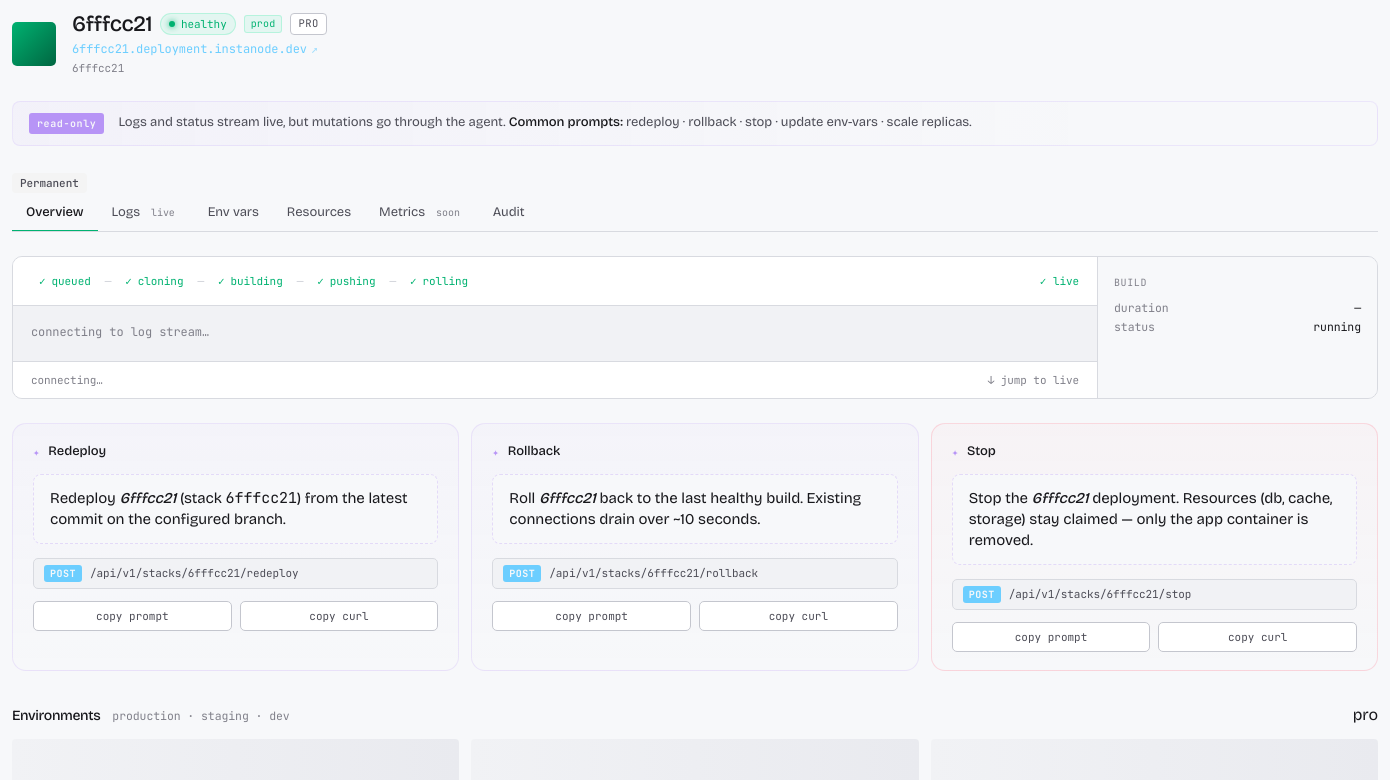
Test: DeployDetailPage — env_vars panel parses + renders real rows › renders the empty-state hint when env_vars is empty
Click the button "Env vars" at (233, 213), box [194, 194, 273, 232]
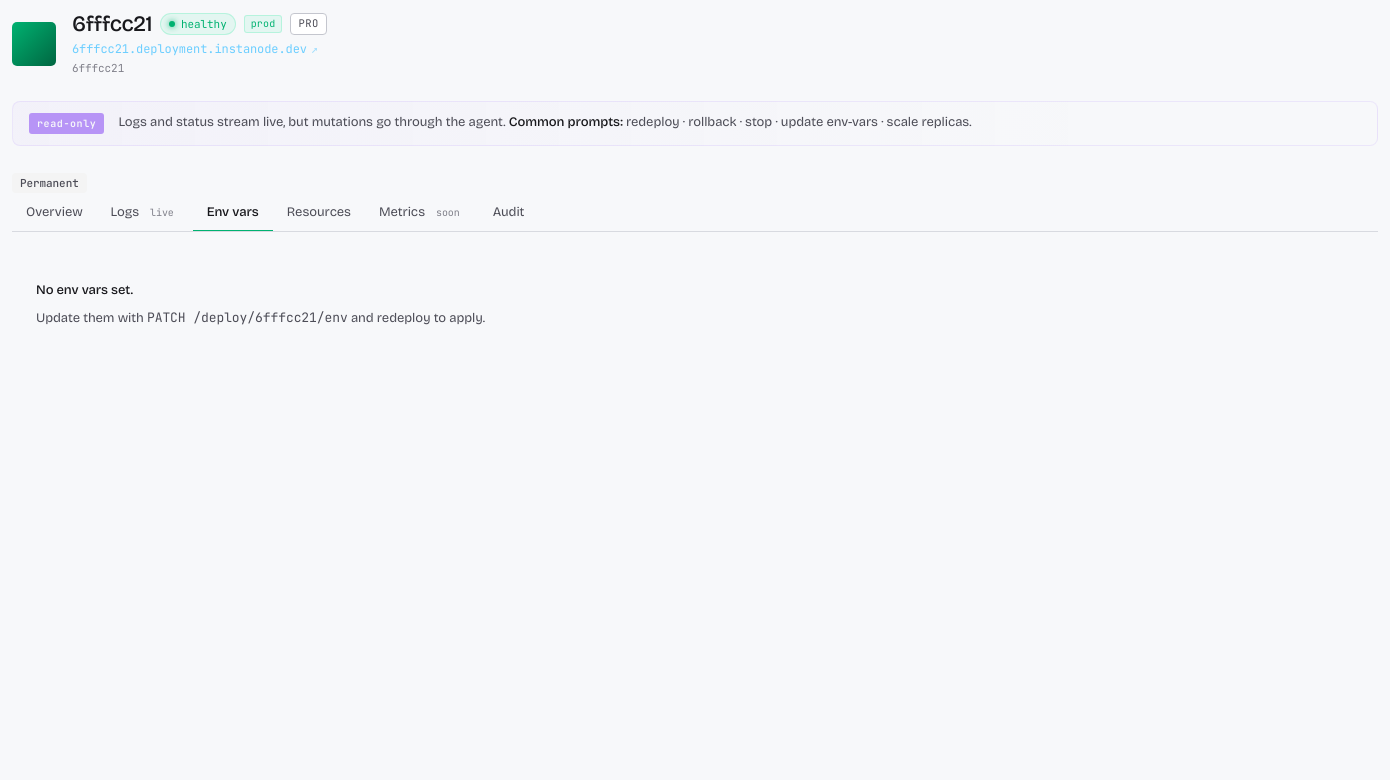
Now the element with test id "env-vars-empty" is shown, box [36, 282, 485, 326]
